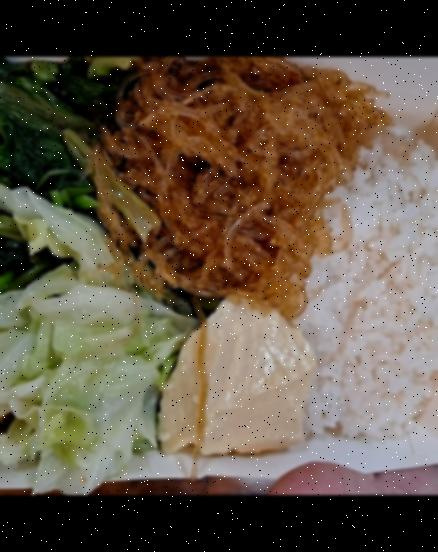big grilled chicken leg: (0, 65, 438, 485)
big herbal chicken leg: (295, 133, 438, 446)
braised fish fillet: (109, 64, 386, 312), (0, 185, 182, 472), (0, 62, 126, 294), (158, 298, 318, 464)
